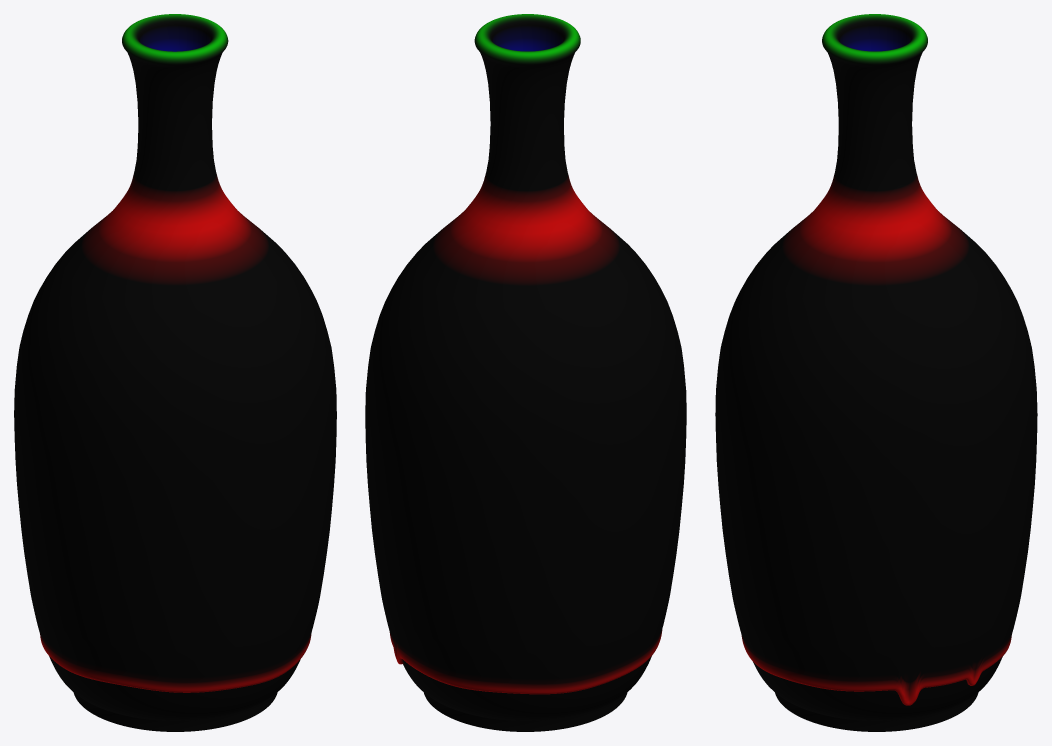
The model's file is vase_white.fbx.
The picture shows the model from 3 angles, left to right: view 1: azimuth 30°, elevation 25°; view 2: azimuth 150°, elevation 25°; view 3: azimuth 270°, elevation 25°; orthographic projection.
Parts seen in each view (by area): view 1: vase_white; view 2: vase_white; view 3: vase_white.
Boxes of the visible parts, <box> form: vase_white: <box>14,14,336,731</box>; vase_white: <box>365,14,686,731</box>; vase_white: <box>715,14,1037,731</box>.
Bounding box in the file's own units: 0.098 × 0.0982 × 0.2204.
